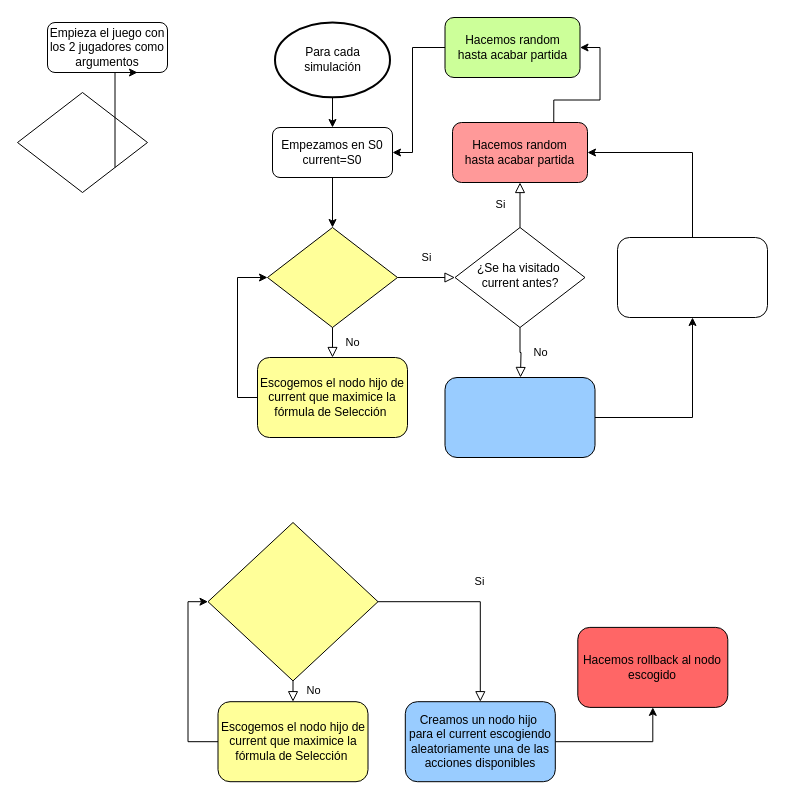
The diagram is 785 pixels wide and 800 high, and some of its shapes have lost their labels. Here are the shapes that lost their labels. From the top down, the centre of each, then its label:
At pixel 82 142: "Usamos MCTS o MCTSAZ?".
At pixel 332 277: "current == nodo hoja".
At pixel 692 277: "Escogemos como nodo actual uno de los hijos que acabamos de abrir".
At pixel 519 417: "Creamos un nodo hijo para cada posible acción desde current".
At pixel 292 601: "¿Quedan acciones en el current por realizar?".
